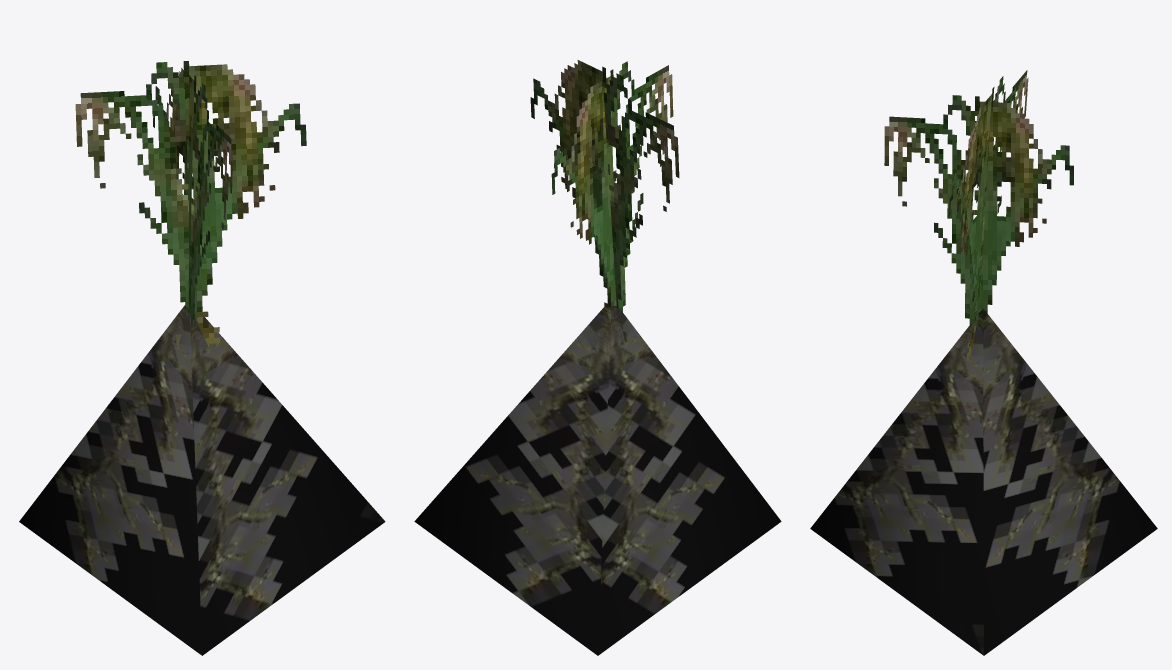
File: ITPL_SWAMPHERB.glb
The picture shows the model from 3 angles, left to right: view 1: azimuth 30°, elevation 25°; view 2: azimuth 150°, elevation 25°; view 3: azimuth 270°, elevation 25°; orthographic projection. The views are drawn at different scales.
Visible parts, largest first — view 1: Mesh; view 2: Mesh; view 3: Mesh.
Part boxes in pixels (x1,y1,x2,y2): Mesh: (19,61,385,655); Mesh: (414,60,781,655); Mesh: (810,70,1157,655).
Bounding box in the file's own units: 0.5682 × 0.8297 × 0.5374.
2 materials, 2 textured.
